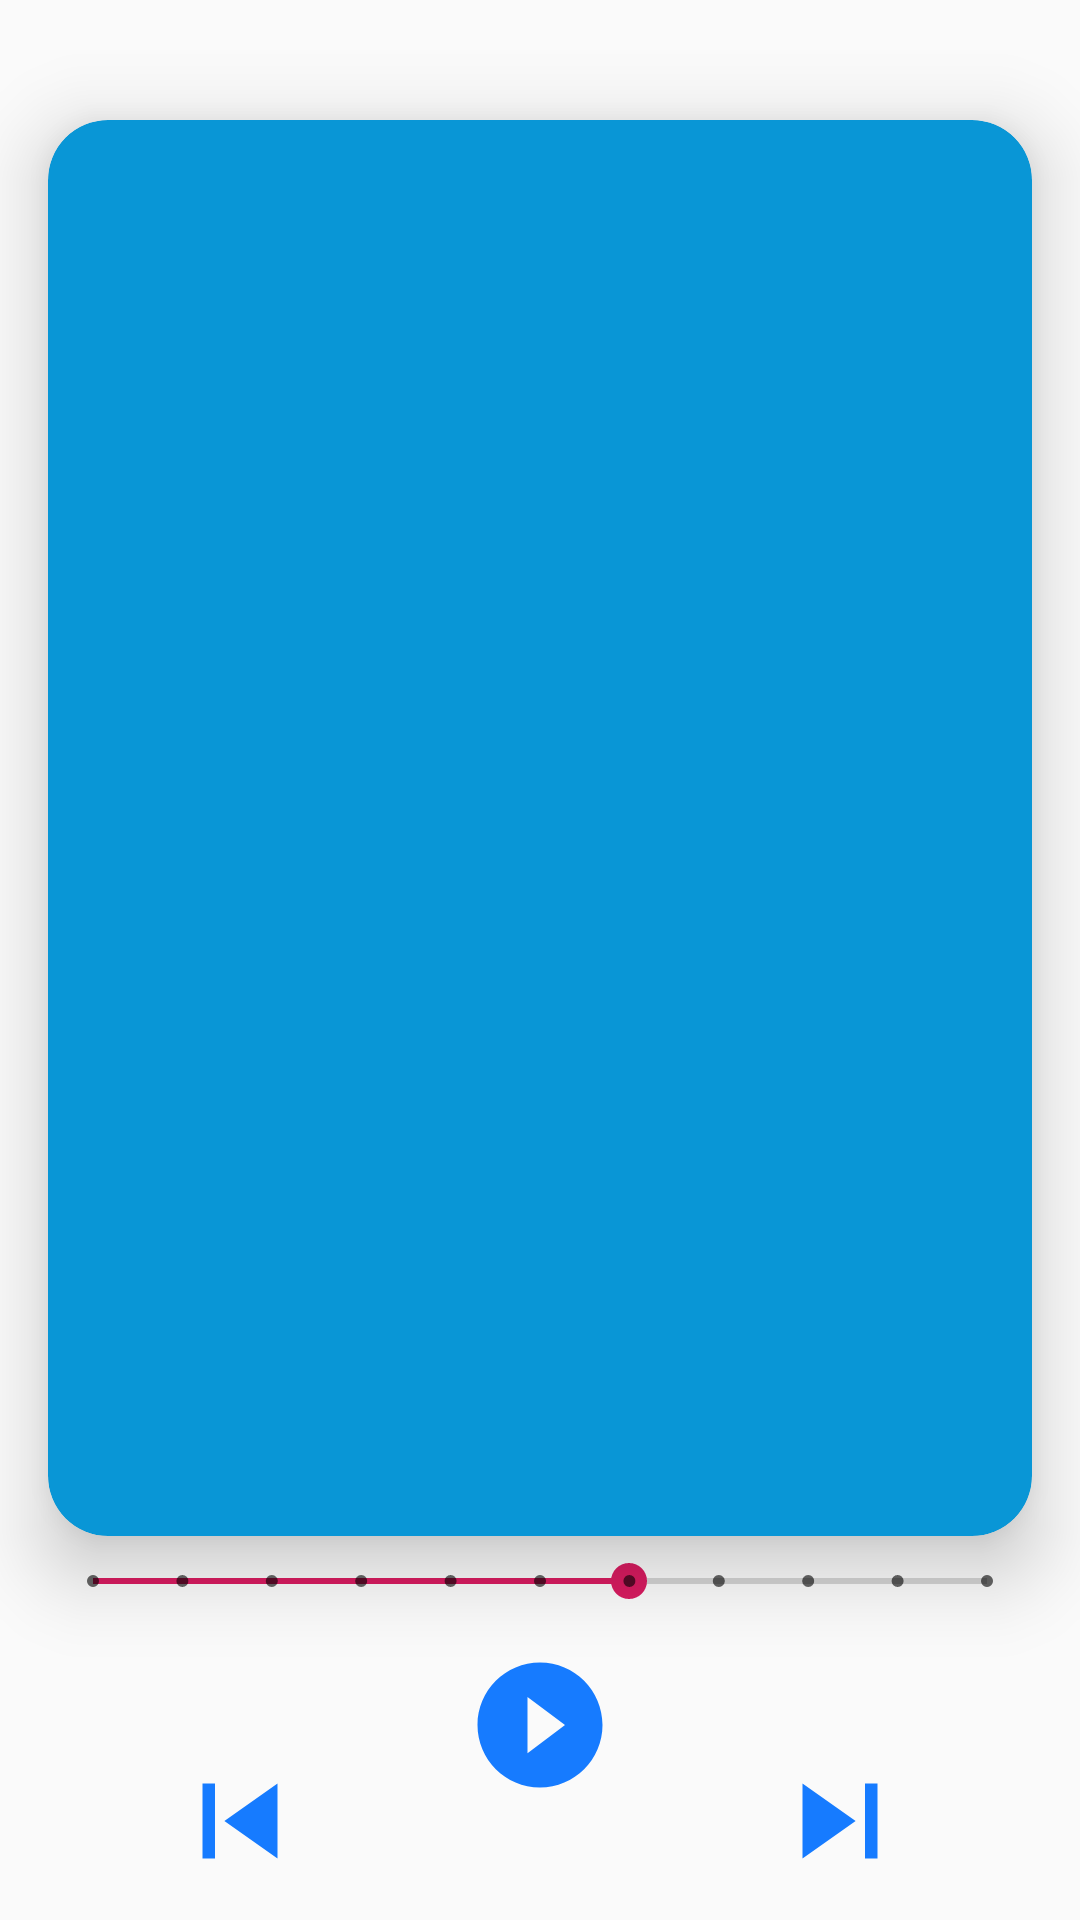

Icons on this 1080*1920 Android screen, each with the point to tap as [x,y]:
next: [840,1821]
play: [540,1725]
previous: [240,1821]
